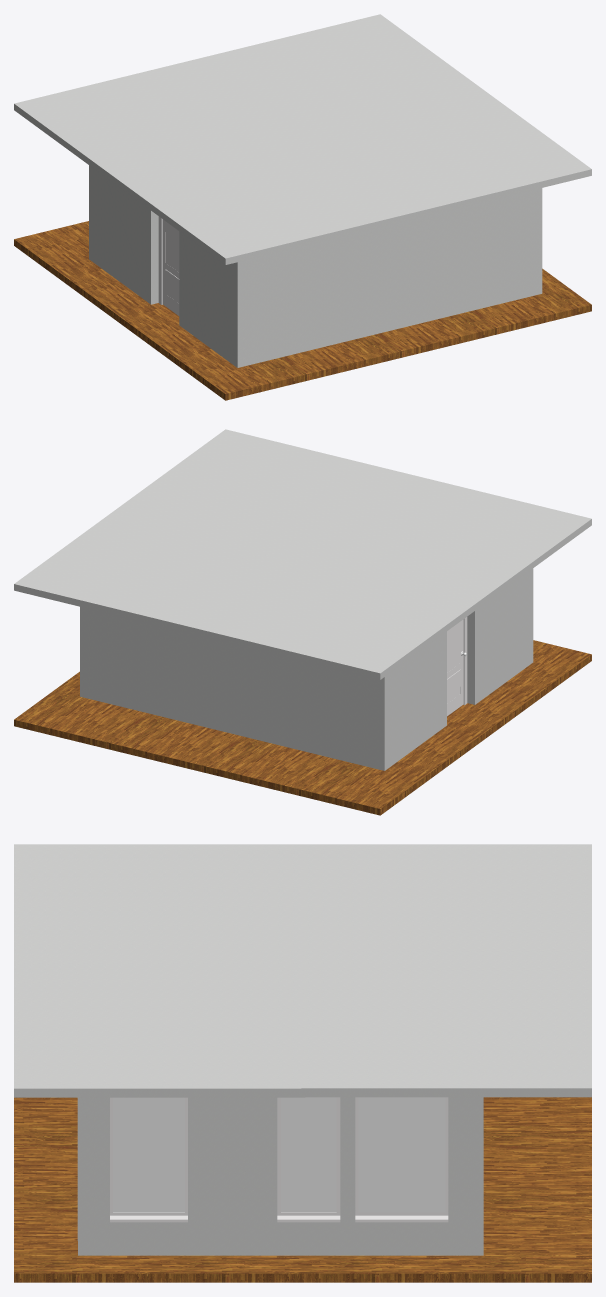
Rendered from FloorPlan228_physics.fbx.
3 views of the same model, one above another, from view 1: azimuth 30°, elevation 25°; view 2: azimuth 150°, elevation 25°; view 3: azimuth 270°, elevation 25° (orthographic). The views are drawn at different scales.
Parts seen in each view (by area): view 1: FP228:polySurface1, FP228:polySurface2, FP228:Floor, FP228:Door.016; view 2: FP228:polySurface1, FP228:polySurface2, FP228:Floor, FP228:Door.016; view 3: FP228:polySurface1, FP228:polySurface2 (×2), FP228:Floor, FP228:polySurface8, FP228:polySurface4, FP228:polySurface9, FP228:polySurface6, FP228:polySurface3.
Boxes of the visible parts, <box> form: FP228:polySurface1: <box>14,14,591,264</box>; FP228:polySurface2: <box>89,165,542,367</box>; FP228:Floor: <box>14,221,591,400</box>; FP228:Door.016: <box>162,219,179,315</box>; FP228:polySurface1: <box>14,429,591,679</box>; FP228:polySurface2: <box>80,568,533,770</box>; FP228:Floor: <box>14,640,591,815</box>; FP228:Door.016: <box>447,619,463,716</box>; FP228:polySurface1: <box>14,844,591,1097</box>; FP228:polySurface2 (×2): <box>77,1097,483,1255</box>; FP228:Floor: <box>14,1097,591,1282</box>; FP228:polySurface8: <box>358,1097,445,1212</box>; FP228:polySurface4: <box>281,1097,336,1211</box>; FP228:polySurface9: <box>355,1097,448,1222</box>; FP228:polySurface6: <box>277,1097,340,1222</box>; FP228:polySurface3: <box>110,1097,187,1222</box>.
Size of the model in its own units: 772 by 287 by 772.
